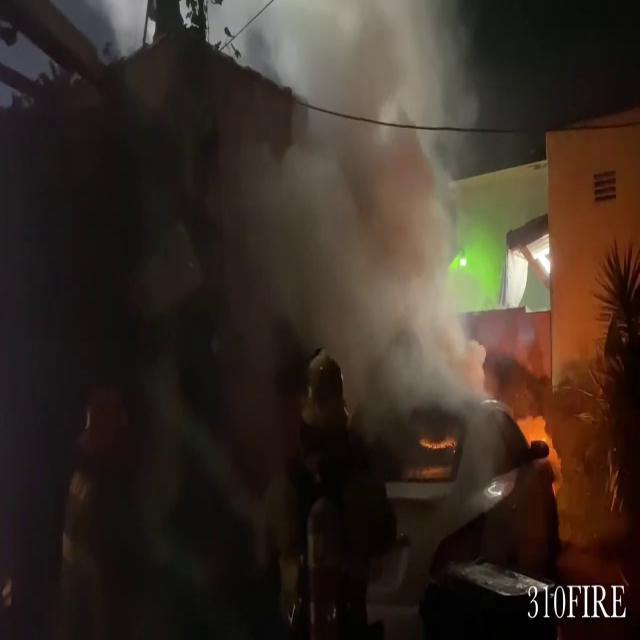Smoke: (203, 7, 503, 430)
